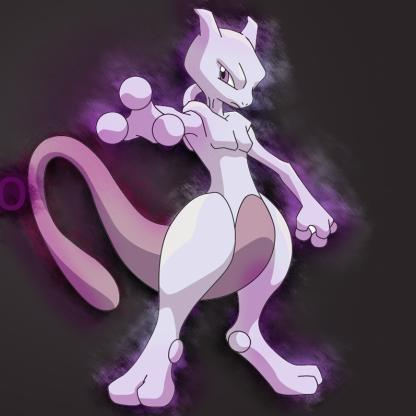Mewtwo: (10, 1, 361, 416)
